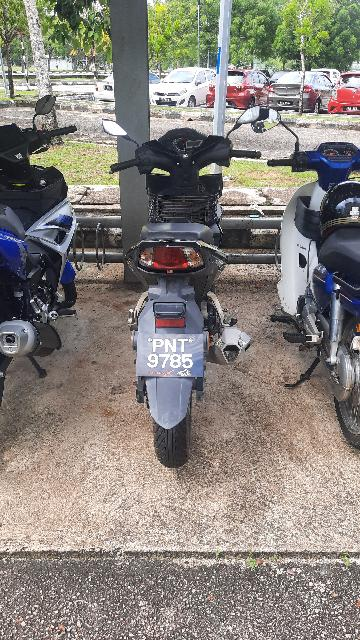License_Plate: (129, 325, 213, 385)
motorcycle: (94, 99, 258, 476)
